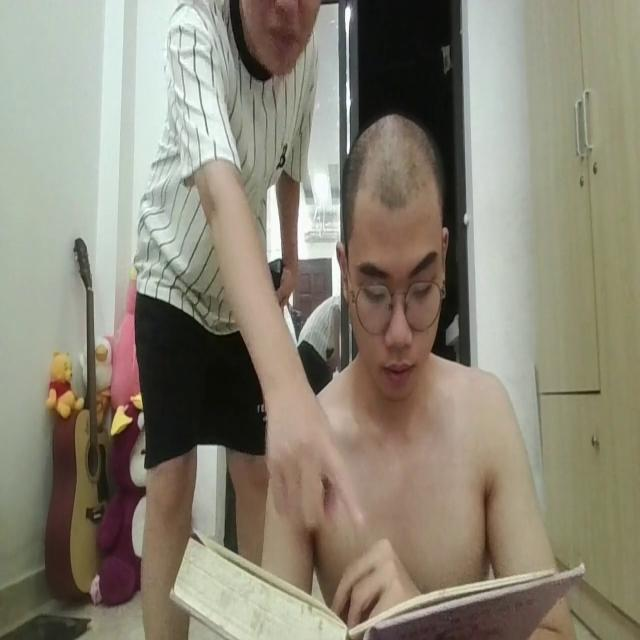book: (163, 506, 588, 640)
extra_person: (111, 0, 325, 640)
student: (269, 86, 567, 640)
